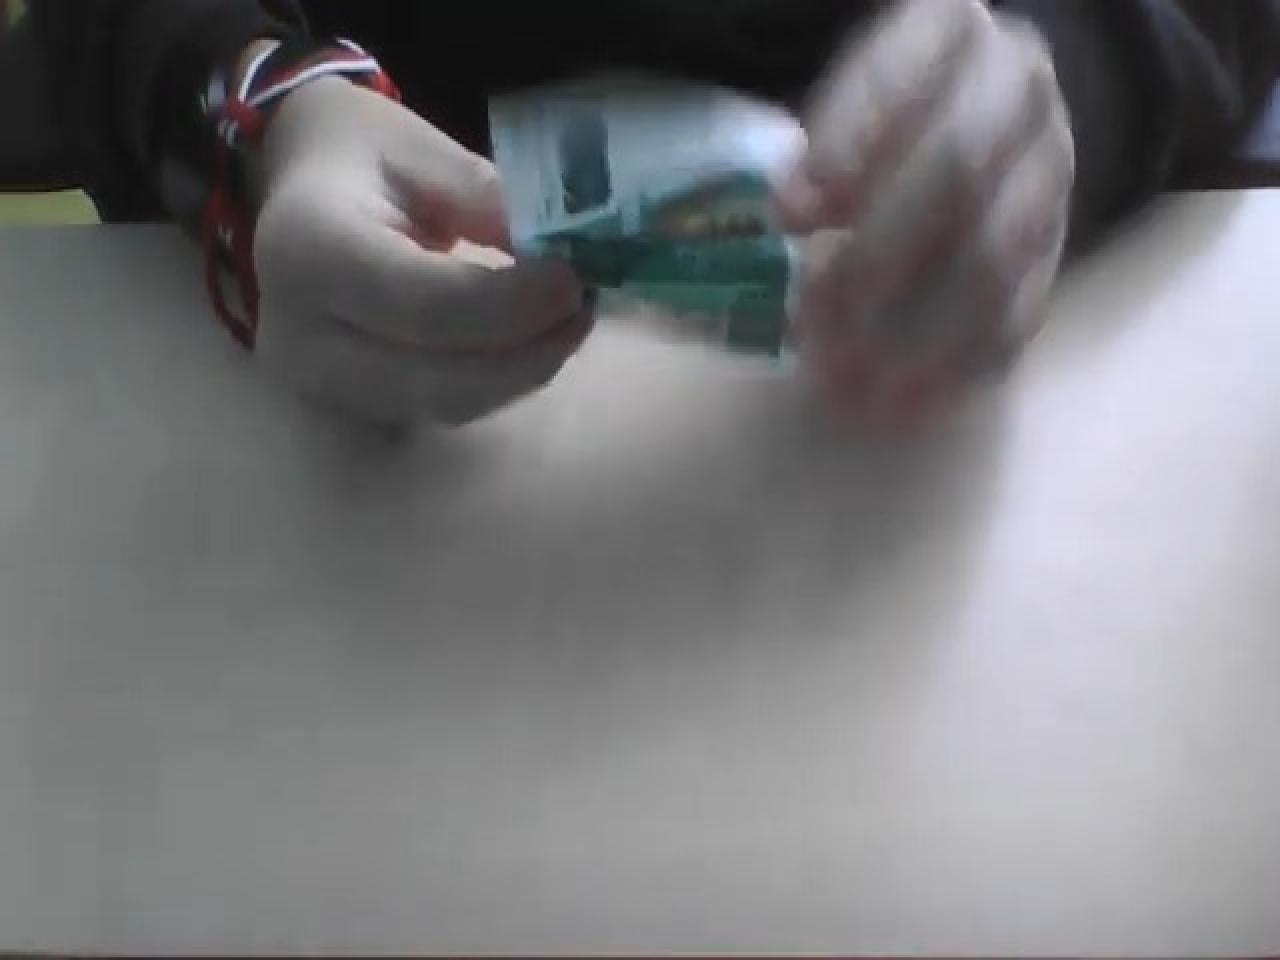100leva: (488, 67, 812, 365)
